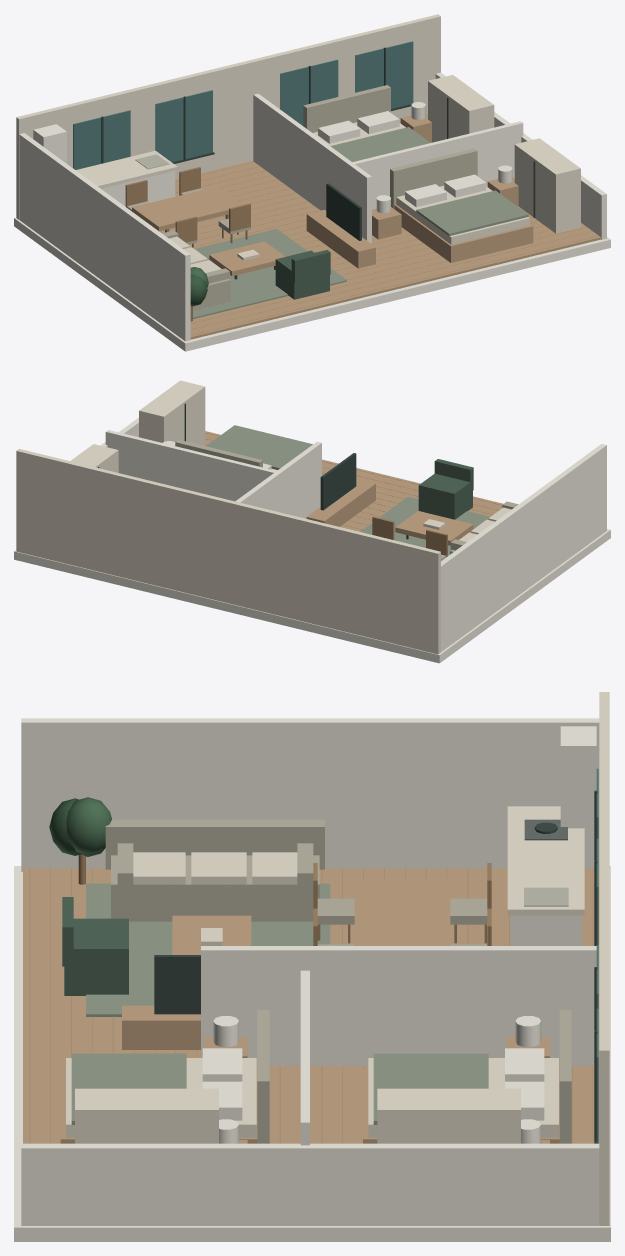
The model's file is interior.glb.
3 renders of one model, top to bottom at view 1: azimuth 30°, elevation 25°; view 2: azimuth 150°, elevation 25°; view 3: azimuth 270°, elevation 25°, orthographic. The views are drawn at different scales.
Visible parts, largest first — view 1: Courtyard_Two_Bedroom_Interior, rear_wall, oak_floor, left_wall, wardrobe (×2), bedroom_partition, interior_base, headboard (×2), duvet (×2), bedroom_divider, living_rug, pillow (×4) (+12 smaller); view 2: rear_wall, left_wall, bedroom_divider, interior_base, wardrobe (×2), bedroom_partition, Courtyard_Two_Bedroom_Interior, oak_floor, duvet, accent_chair, media_unit, living_rug (+3 smaller); view 3: left_wall, right_cutaway_wall, bedroom_partition, Courtyard_Two_Bedroom_Interior, oak_floor, wardrobe (×2), interior_base, duvet (×2), sofa, living_rug, dining_table, rear_wall (+12 smaller).
Part boxes in pixels (left/top/right/bottom): Courtyard_Two_Bedroom_Interior: left=73, top=41, right=598, bottom=335; rear_wall: left=16, top=14, right=440, bottom=219; oak_floor: left=159, top=142, right=600, bottom=339; left_wall: left=19, top=133, right=190, bottom=341; wardrobe (×2): left=428, top=75, right=580, bottom=233; bedroom_partition: left=253, top=93, right=371, bottom=243; interior_base: left=14, top=217, right=610, bottom=351; headboard (×2): left=303, top=85, right=477, bottom=208; duvet (×2): left=330, top=127, right=528, bottom=235; bedroom_divider: left=352, top=121, right=523, bottom=209; living_rug: left=193, top=229, right=346, bottom=318; pillow (×4): left=318, top=111, right=486, bottom=207; rear_wall: left=16, top=449, right=440, bottom=654; left_wall: left=441, top=444, right=606, bottom=651; bedroom_divider: left=105, top=430, right=276, bottom=501; interior_base: left=14, top=431, right=610, bottom=663; wardrobe (×2): left=70, top=380, right=205, bottom=472; bedroom_partition: left=235, top=441, right=321, bottom=518; Courtyard_Two_Bedroom_Interior: left=98, top=403, right=518, bottom=560; oak_floor: left=205, top=431, right=502, bottom=531; duvet: left=206, top=425, right=312, bottom=469; accent_chair: left=418, top=473, right=472, bottom=519; media_unit: left=306, top=479, right=375, bottom=526; living_rug: left=360, top=496, right=490, bottom=555; left_wall: left=21, top=718, right=599, bottom=871; right_cutaway_wall: left=21, top=1143, right=599, bottom=1225; bedroom_partition: left=201, top=946, right=596, bottom=1066; Courtyard_Two_Bedroom_Interior: left=29, top=768, right=598, bottom=1143; oak_floor: left=23, top=868, right=599, bottom=1143; wardrobe (×2): left=75, top=1088, right=520, bottom=1143; interior_base: left=14, top=866, right=610, bottom=1241; duvet (×2): left=71, top=1053, right=488, bottom=1124; sofa: left=111, top=855, right=319, bottom=921; living_rug: left=86, top=883, right=330, bottom=1016; dining_table: left=355, top=879, right=448, bottom=945; rear_wall: left=599, top=692, right=609, bottom=1225.
Size of the model in its own units: 11.9 by 2.91 by 8.3.
